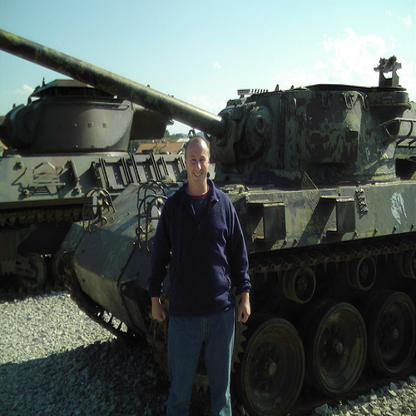Tank: (65, 58, 416, 405), (1, 46, 197, 311)
